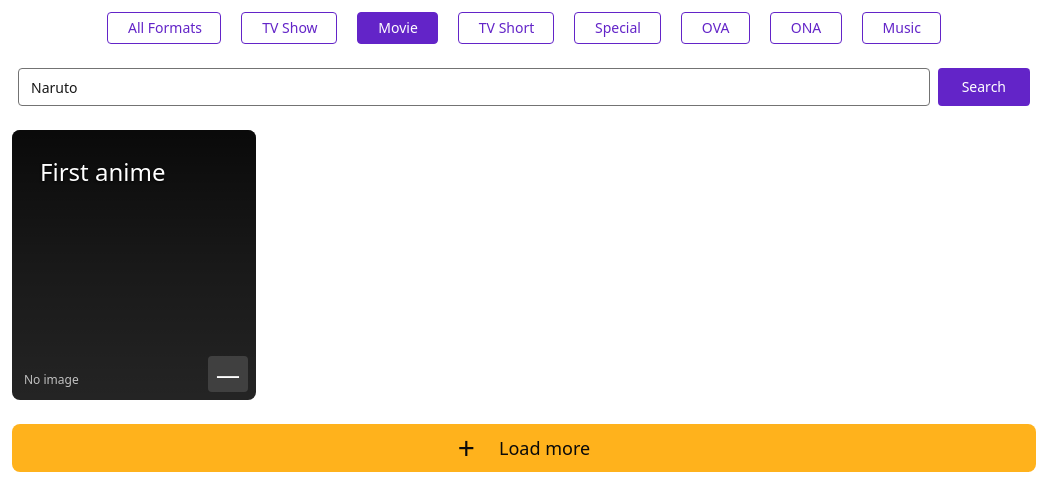
hydrates filtered results without a browser refetch and requests only page two on load more
Expected: the heading "First anime" is shown, left=40, top=155, right=165, bottom=188
Expected: the search field holds "Naruto", left=18, top=68, right=930, bottom=106
Click the button "+ Load more" at (524, 448), box left=12, top=424, right=1036, bottom=472
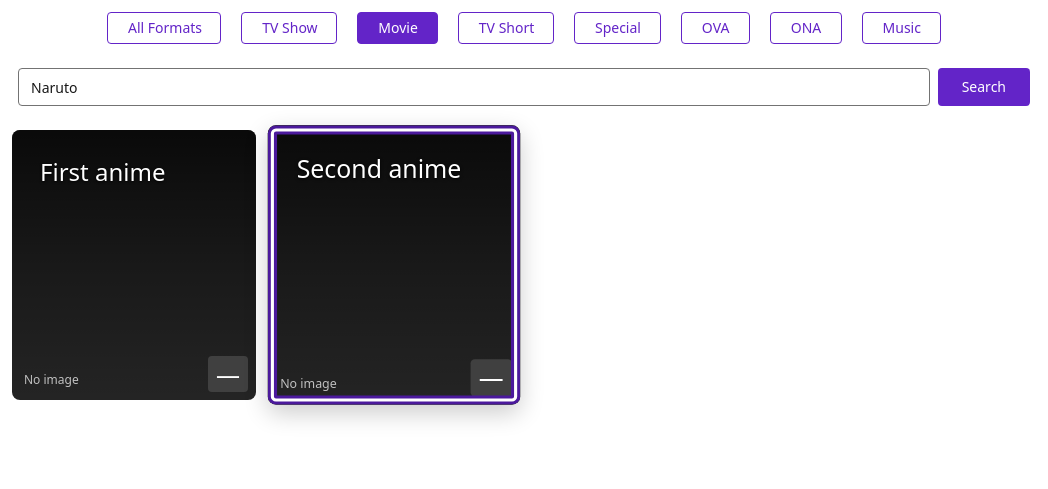
Expected: the heading "Second anime" is shown, left=297, top=151, right=461, bottom=185
